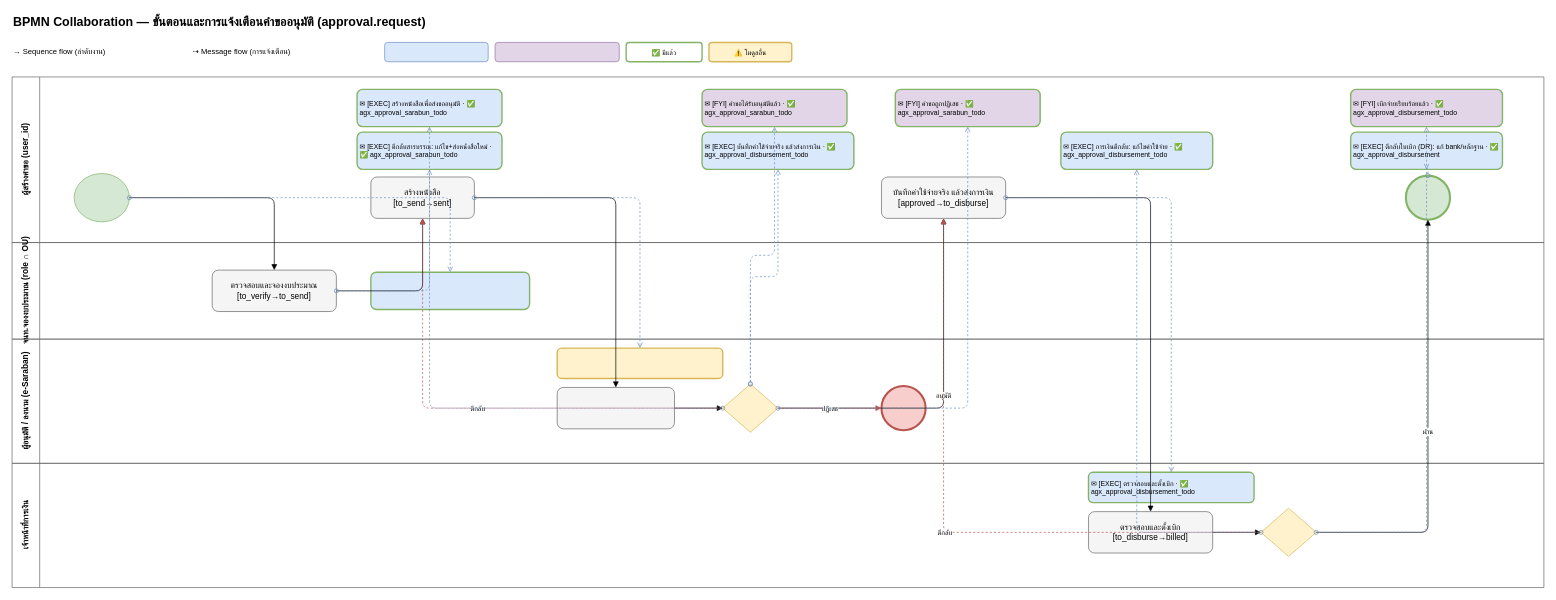
Some shapes in this 1556 by 600 pixel diagram are drawn without their labels. Each missing label, with the centre of its shape:
[EXEC] execution: pixel 436 52
[FYI] acknowledgement: pixel 556 52
billed: pixel 1427 197
rejected: pixel 903 408
คำขอ [draft→to_verify]: pixel 101 197
ผลตรวจการเงิน: pixel 1288 531
ผลพิจารณา: pixel 750 407
พิจารณา / ลงนามหนังสือ [sent]: pixel 615 408
✉ [EXEC] ตรวจสอบและจองงบประมาณ · ✅ agx_approval_todo: pixel 450 290
✉ [EXEC] ลงนาม / อนุมัติหนังสือ · ⚠️ agx_sarabun: pixel 639 363
